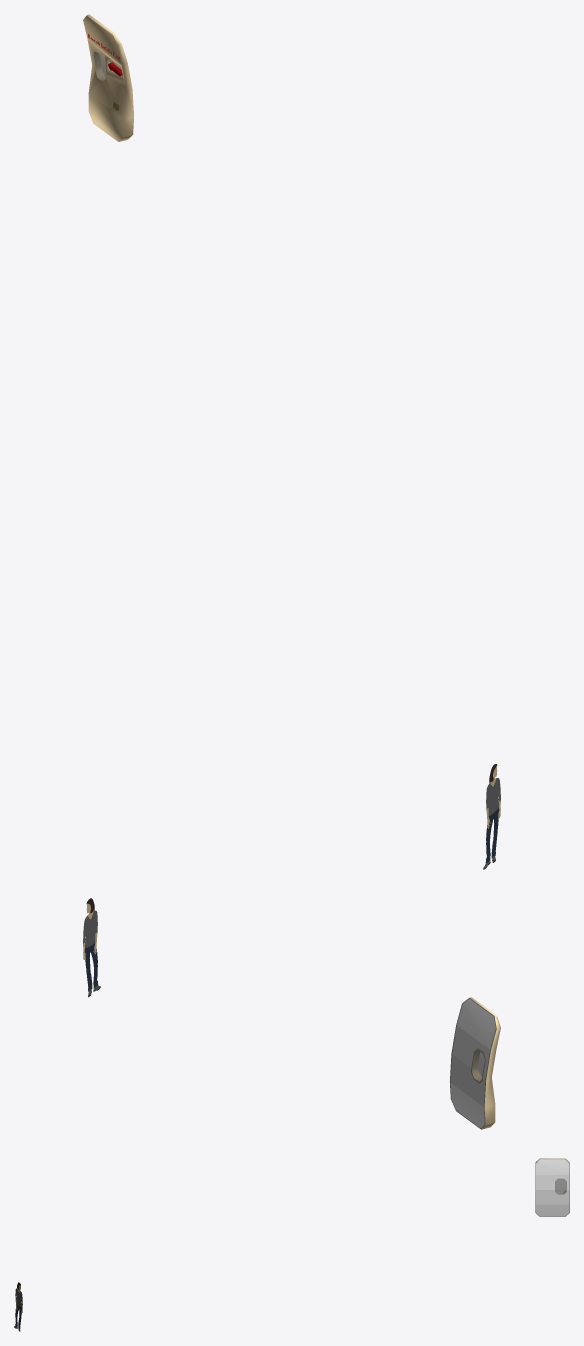
3 views of the same model, one above another, from view 1: azimuth 30°, elevation 25°; view 2: azimuth 210°, elevation 25°; view 3: azimuth 270°, elevation 25° (orthographic). The views are drawn at different scales.
Parts seen in each view (by area): view 1: Layer0_001, Susan_001; view 2: Layer0_001, Susan_001; view 3: Layer0_001, Susan_001.
Boxes of the visible parts, x1=… form: Layer0_001: x1=83, y1=14, x2=133, y2=141; Susan_001: x1=483, y1=764, x2=500, y2=869; Layer0_001: x1=450, y1=997, x2=500, y2=1129; Susan_001: x1=83, y1=898, x2=100, y2=997; Layer0_001: x1=535, y1=1158, x2=569, y2=1216; Susan_001: x1=14, y1=1282, x2=22, y2=1331.
Bounding box in the file's own units: 123 × 282 × 687.
